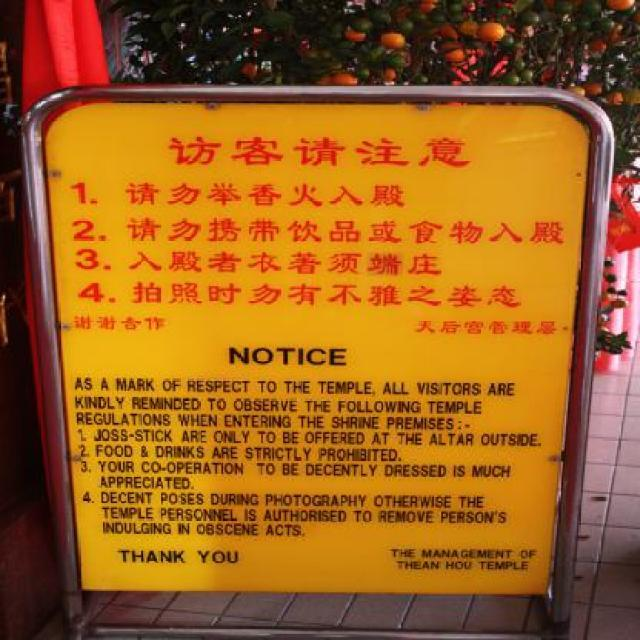Orange: (476, 20, 502, 44), (594, 0, 638, 14), (580, 76, 609, 96), (240, 53, 260, 75), (377, 30, 403, 46), (450, 1, 481, 13), (603, 91, 623, 109), (334, 77, 372, 86), (431, 26, 455, 37), (492, 0, 516, 11), (584, 34, 598, 50), (416, 0, 436, 11), (250, 26, 264, 40), (354, 23, 363, 37), (570, 84, 574, 92)
